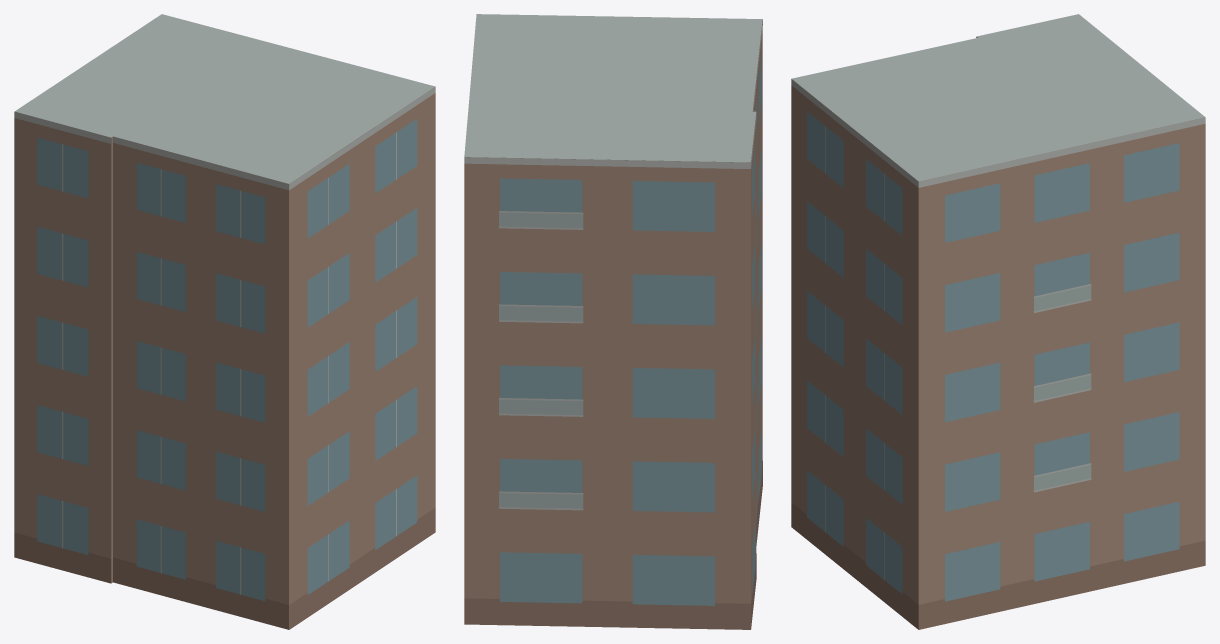
Rendered from survey-upis-32782887.glb.
3 views of the same model, side by side, from view 1: azimuth 30°, elevation 25°; view 2: azimuth 150°, elevation 25°; view 3: azimuth 270°, elevation 25° (orthographic). The views are drawn at different scales.
Parts seen in each view (by area): view 1: survey-upis-32782887.tmp; view 2: survey-upis-32782887.tmp; view 3: survey-upis-32782887.tmp.
Boxes of the visible parts, bbox=[...] form: survey-upis-32782887.tmp: bbox=[14, 14, 435, 629]; survey-upis-32782887.tmp: bbox=[464, 14, 762, 629]; survey-upis-32782887.tmp: bbox=[791, 14, 1205, 629].
Size of the model in its own units: 13.67 by 17.05 by 14.29.
